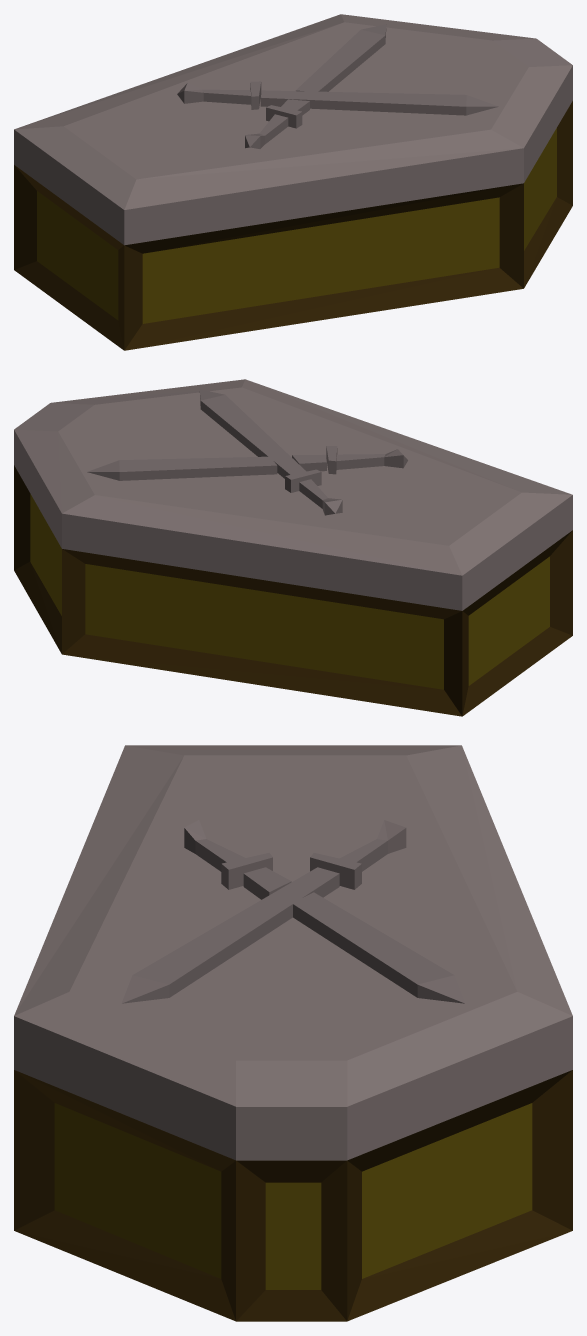
File: obj_coffin_7_0.obj
3 views of the same model, one above another, from view 1: azimuth 30°, elevation 25°; view 2: azimuth 150°, elevation 25°; view 3: azimuth 270°, elevation 25° (orthographic). The views are drawn at different scales.
Bounding box in the file's own units: 1.8 × 0.5781 × 1.18.
